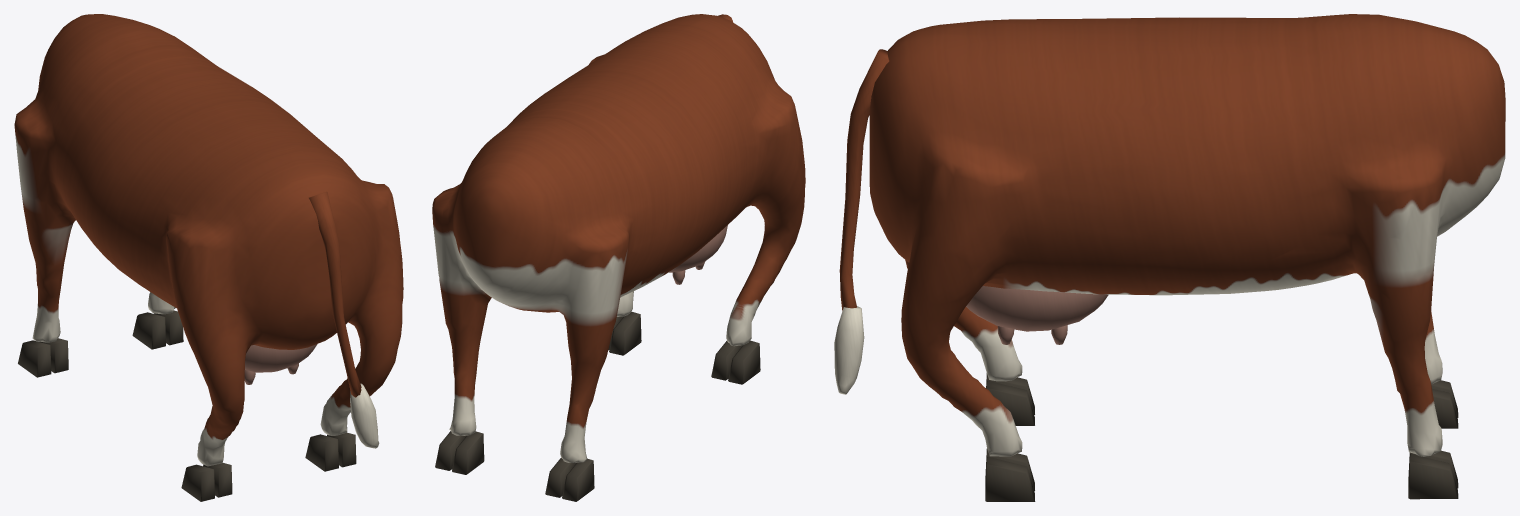
The model's file is SM_Cow_Alive_Body_LOD2.glb.
The picture shows the model from 3 angles, left to right: view 1: azimuth 30°, elevation 25°; view 2: azimuth 150°, elevation 25°; view 3: azimuth 270°, elevation 25°; orthographic projection. The views are drawn at different scales.
Visible parts, largest first — view 1: SM_Cow_Alive_Body_LOD2; view 2: SM_Cow_Alive_Body_LOD2; view 3: SM_Cow_Alive_Body_LOD2.
Boxes of the visible parts, x1,y1,x2,y2 form: SM_Cow_Alive_Body_LOD2: [14, 14, 403, 501]; SM_Cow_Alive_Body_LOD2: [432, 14, 805, 501]; SM_Cow_Alive_Body_LOD2: [834, 14, 1505, 501].
Size of the model in its own units: 0.9526 by 1.43 by 2.01.
5 materials, 5 textured.
